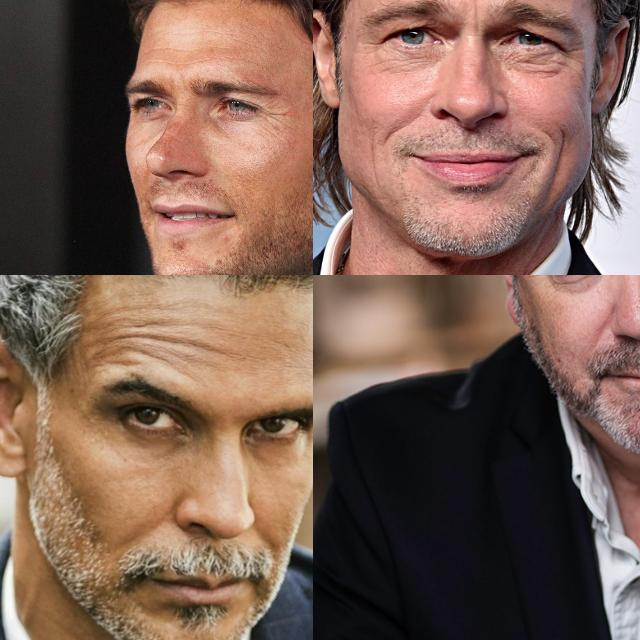crows_feet: (264, 101, 286, 129), (560, 44, 584, 68), (358, 34, 382, 56)
forehead: (111, 318, 157, 360), (163, 326, 209, 356), (167, 55, 215, 71)
frown_line: (466, 1, 486, 31)
gummy_smile: (379, 112, 421, 140)
masseter: (551, 131, 567, 199), (367, 145, 383, 189)
